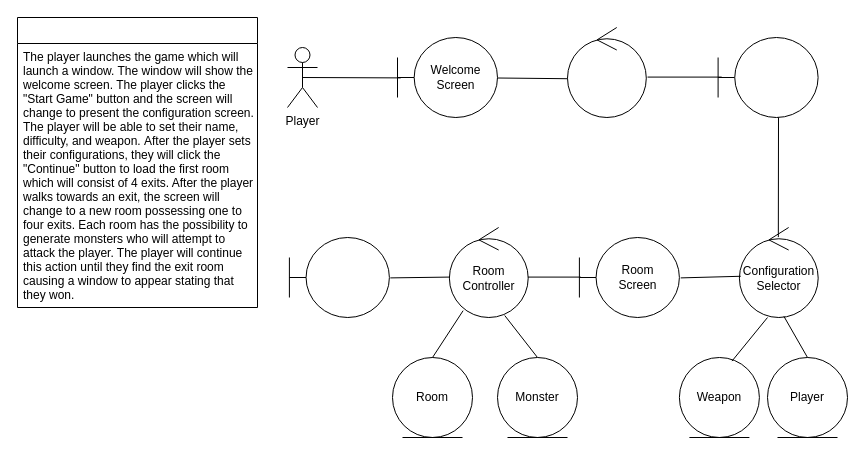
This 865x455 diagram has some shape labels left out. Each missing label, with the box of its shape:
Configuration Screen: (717, 36, 818, 118)
Use Case: Play a new game: (16, 16, 258, 308)
Welcome Screen Selector: (566, 26, 646, 118)
Winner Screen: (288, 236, 389, 318)
